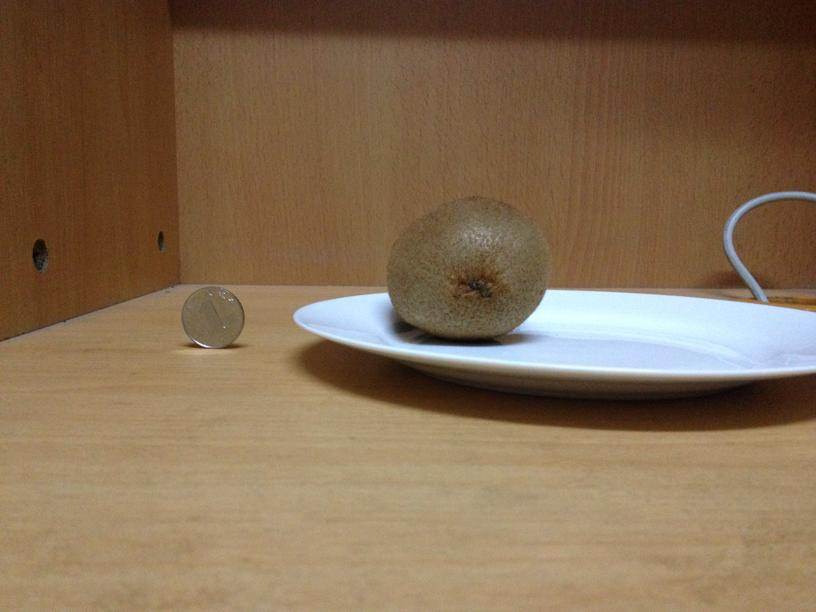coin: (179, 285, 246, 347)
qiwi: (382, 196, 551, 338)
